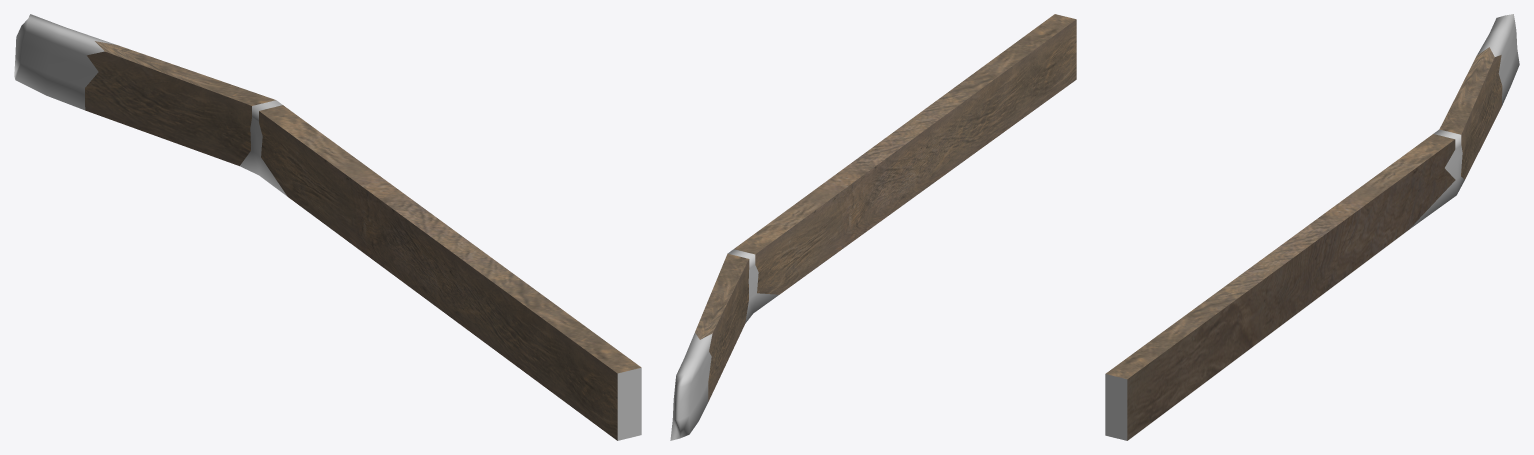
File: WoodPlankDestroyA.fbx
3 renders of one model, left to right at view 1: azimuth 30°, elevation 25°; view 2: azimuth 150°, elevation 25°; view 3: azimuth 330°, elevation 25°, orthographic. The views are drawn at different scales.
Parts seen in each view (by area): view 1: WoodPlankDestroyA; view 2: WoodPlankDestroyA; view 3: WoodPlankDestroyA.
Boxes of the visible parts, x1=… form: WoodPlankDestroyA: x1=14, y1=14, x2=641, y2=440; WoodPlankDestroyA: x1=670, y1=14, x2=1076, y2=440; WoodPlankDestroyA: x1=1105, y1=14, x2=1519, y2=440.
Bounding box in the file's own units: 27.12 × 16 × 227.
